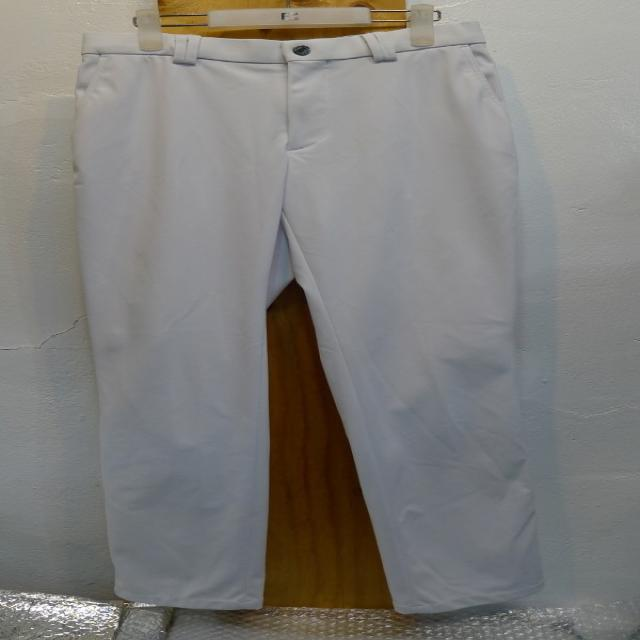long-pants: (69, 26, 554, 612)
